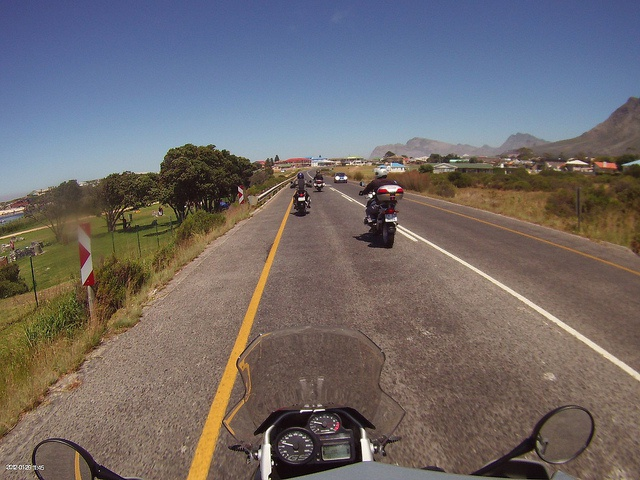non-vehicle: (30, 325, 595, 475), (360, 179, 404, 248), (291, 188, 312, 216), (313, 179, 326, 191)
